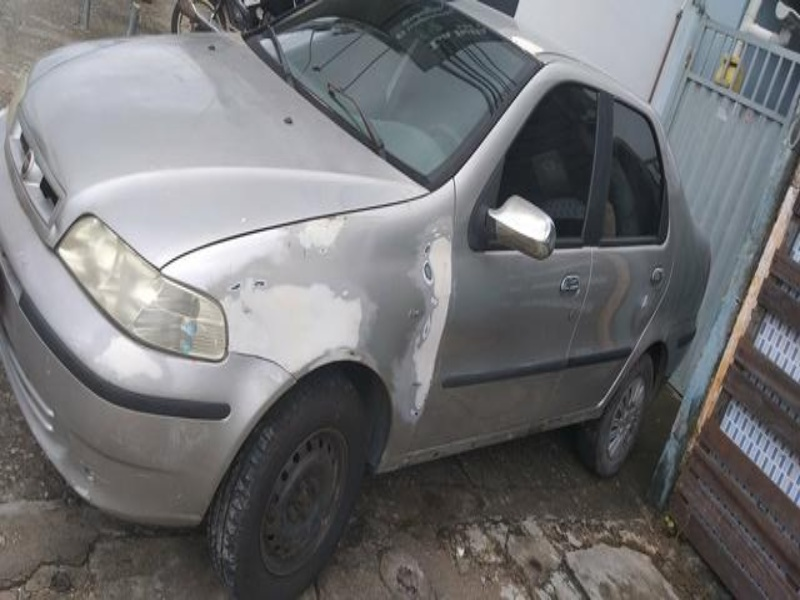ruim: (599, 263, 799, 491)
